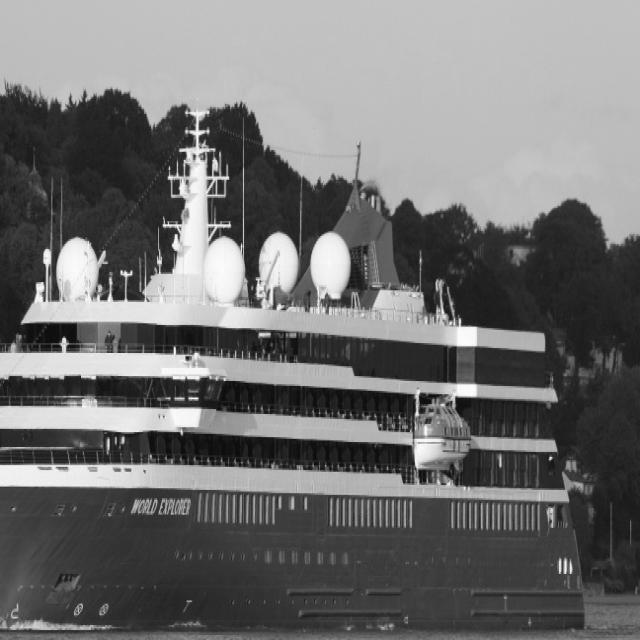cruises: (1, 101, 603, 636)
